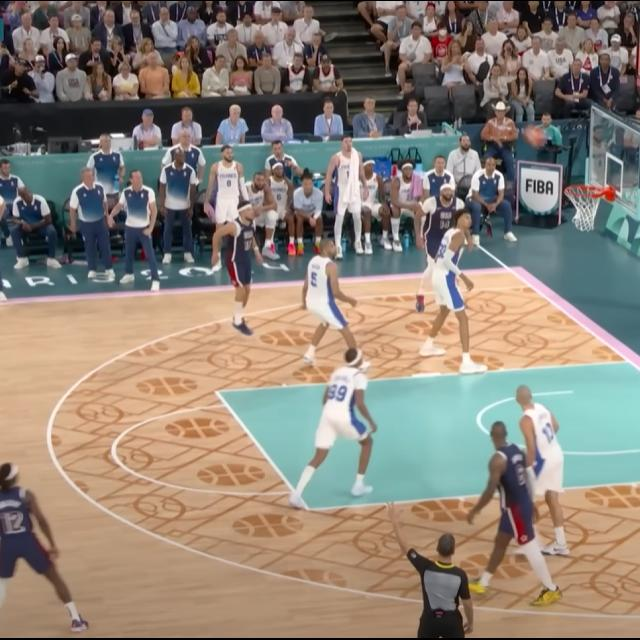basketball: (522, 125, 546, 148)
hoop: (564, 182, 609, 232)
